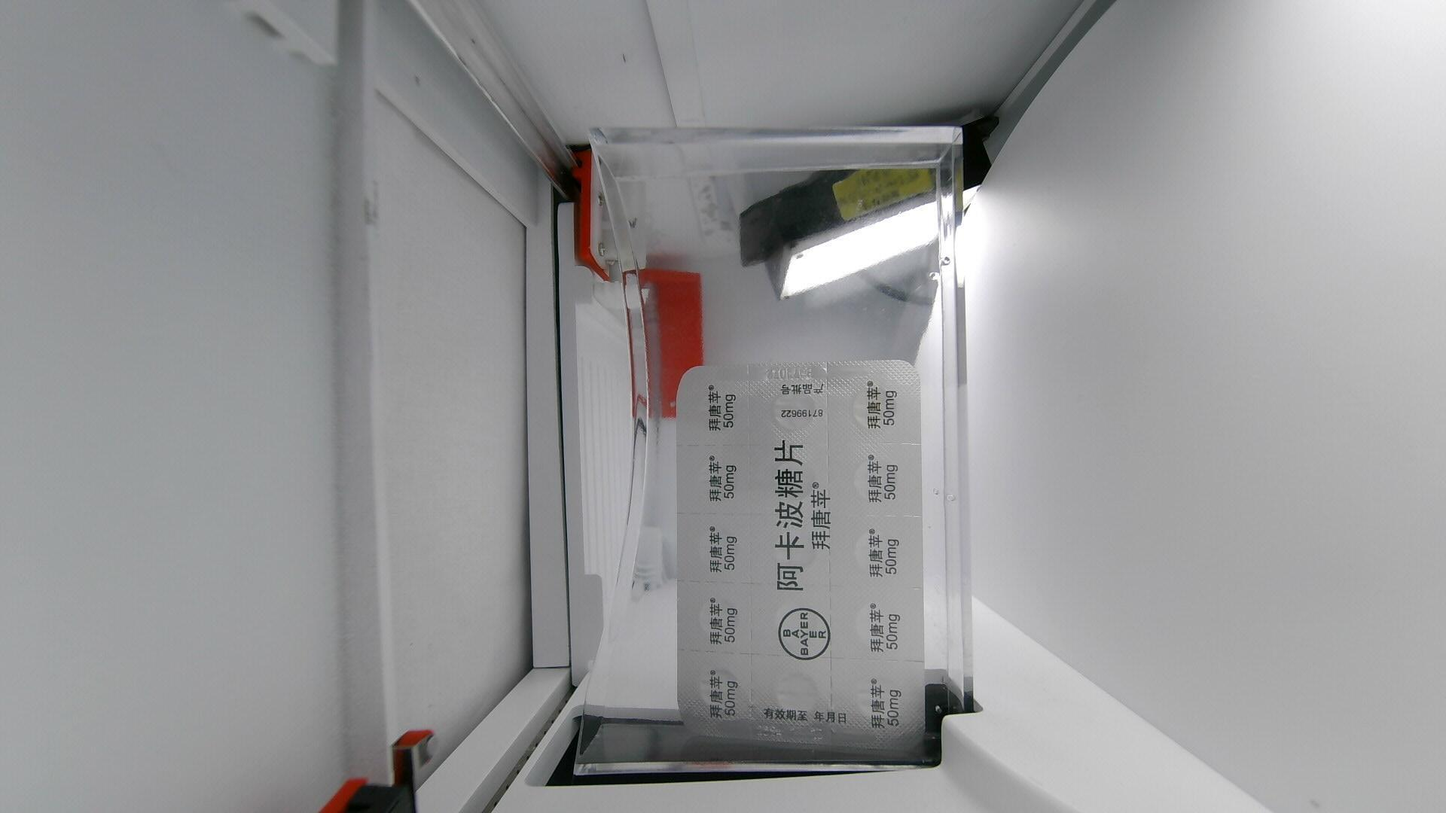Pill Back: (765, 598, 825, 660), (764, 519, 823, 575), (767, 671, 826, 725), (691, 664, 748, 717), (853, 531, 910, 583), (771, 451, 828, 503), (861, 676, 911, 735), (690, 449, 745, 502), (694, 381, 748, 434), (851, 452, 899, 507), (851, 383, 901, 431), (859, 608, 910, 655), (697, 527, 742, 580), (701, 592, 747, 642), (776, 385, 818, 430)
